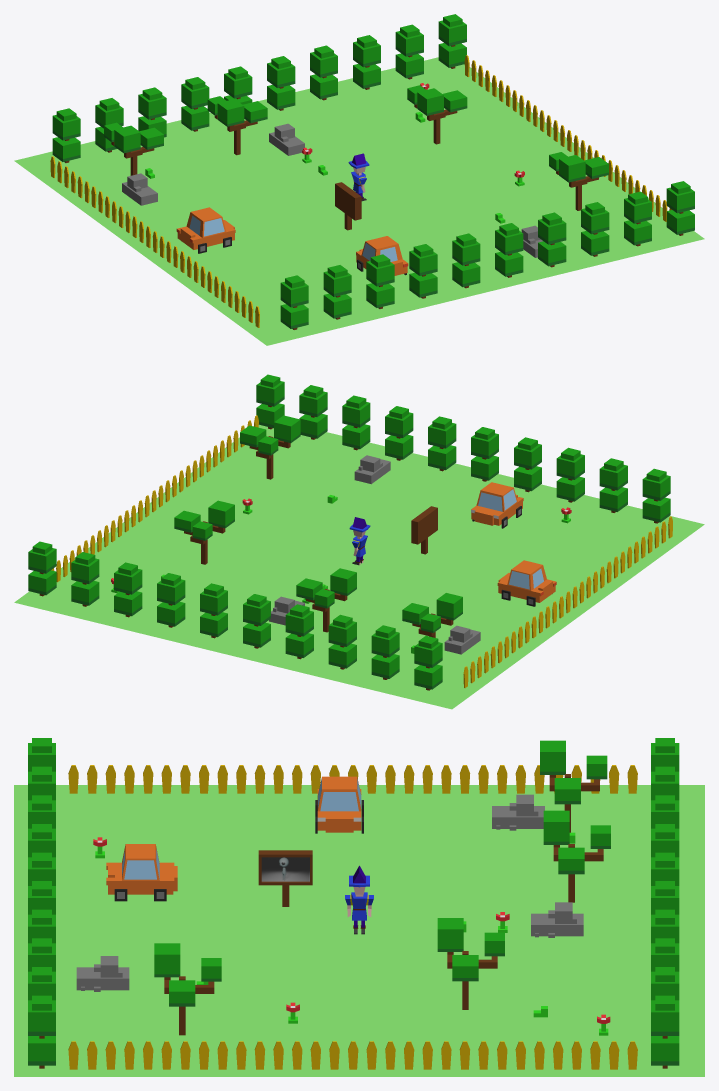
3 views of the same model, one above another, from view 1: azimuth 30°, elevation 25°; view 2: azimuth 150°, elevation 25°; view 3: azimuth 270°, elevation 25° (orthographic). The views are drawn at different scales.
Parts seen in each view (by area): view 1: Ground, Tree, Fence, Car.001, BigTree.003, BigTree, BigTree.002, BigTree.001, Car, Board, Rock.001, Rock (+1 smaller); view 2: Ground, Tree, Fence, Car.001, BigTree.002, BigTree.003, Car, BigTree, BigTree.001, Board, Rock.001, Rock.002 (+1 smaller); view 3: Ground, Tree, Fence, Car, BigTree, BigTree.003, BigTree.002, Car.001, BigTree.001, Board, Rock.002, Rock (+2 smaller).
Boxes of the visible parts, x1,y1,x2,y2 form: Ground: [14, 57, 704, 345]; Tree: [52, 14, 694, 329]; Fence: [50, 55, 671, 327]; Car.001: [176, 207, 235, 253]; BigTree.003: [407, 85, 467, 144]; BigTree: [207, 96, 267, 155]; BigTree.002: [549, 152, 608, 210]; BigTree.001: [104, 122, 163, 175]; Car: [356, 236, 408, 275]; Board: [335, 182, 361, 230]; Rock.001: [122, 173, 157, 205]; Rock: [269, 123, 304, 155]; Ground: [14, 424, 704, 709]; Tree: [28, 374, 670, 690]; Fence: [51, 415, 672, 687]; Car.001: [497, 560, 556, 606]; BigTree.002: [240, 415, 300, 479]; BigTree.003: [174, 500, 234, 564]; Car: [471, 482, 523, 528]; BigTree: [296, 568, 356, 632]; BigTree.001: [402, 593, 462, 637]; Board: [411, 506, 437, 554]; Rock.001: [444, 625, 480, 654]; Rock.002: [354, 455, 390, 484]; Ground: [14, 785, 704, 1076]; Tree: [28, 738, 679, 1068]; Fence: [68, 765, 637, 1069]; Car: [106, 844, 177, 901]; BigTree: [543, 810, 610, 902]; BigTree.003: [437, 918, 504, 1009]; BigTree.002: [154, 943, 221, 1035]; Car.001: [315, 776, 363, 833]; BigTree.001: [540, 740, 607, 832]; Board: [258, 850, 312, 906]; Rock.002: [76, 956, 129, 991]; Rock: [531, 902, 583, 937].
Size of what is drawn, in the model's own units: 52.39 by 6.46 by 52.39.
22 materials, 1 textured.
